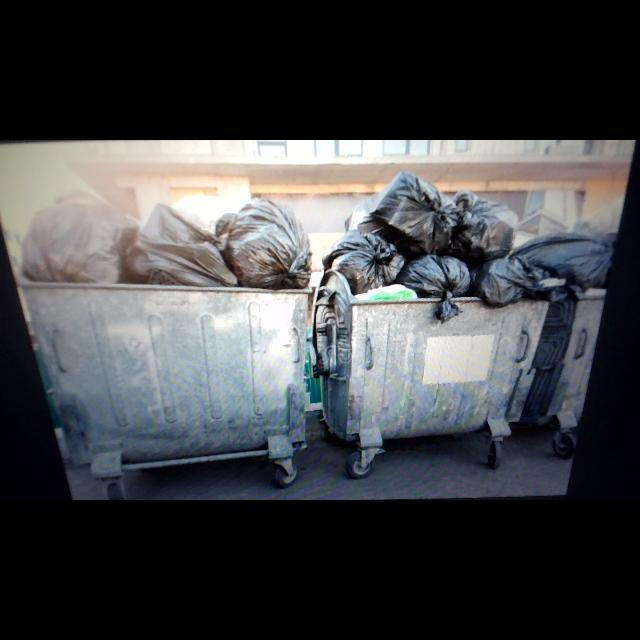Trash_Can_Full: (19, 190, 314, 469), (313, 170, 551, 438), (523, 230, 617, 424)
